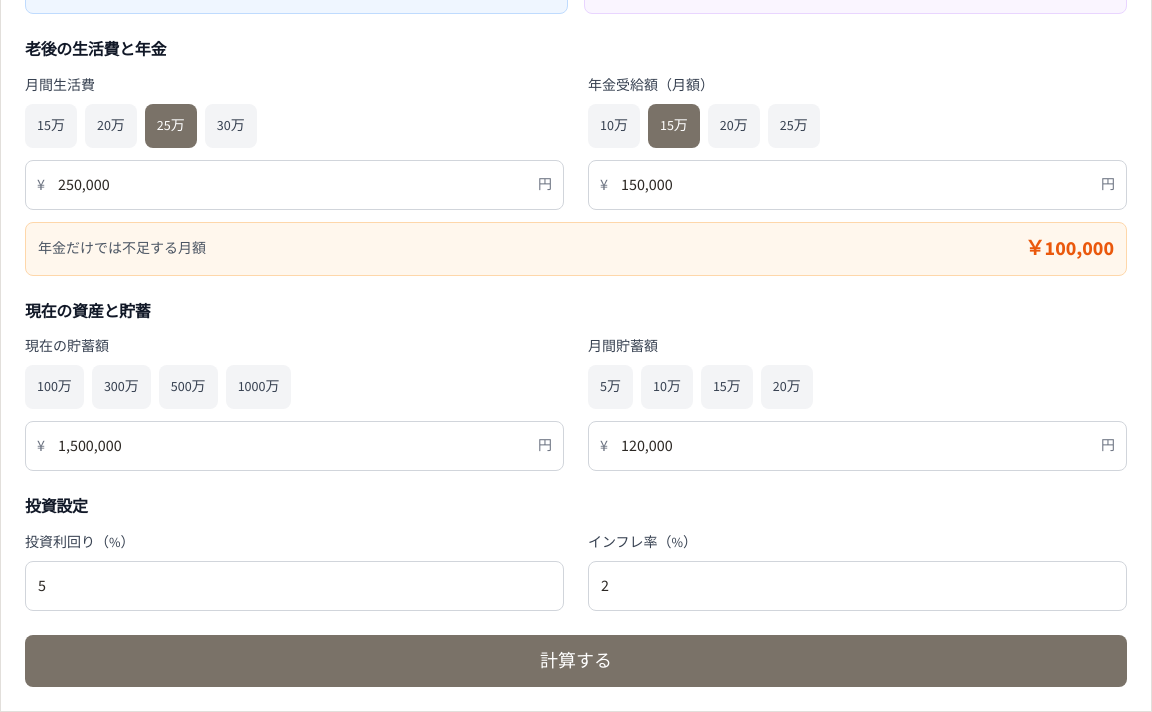
Test case: RetirementCalculator › エラーハンドリング › APIエラー時にエラーメッセージが表示される
The width and height of the screenshot is (1152, 712).
(page scrolled)
Click the button "計算する": (576,661) [25,635,1127,687]
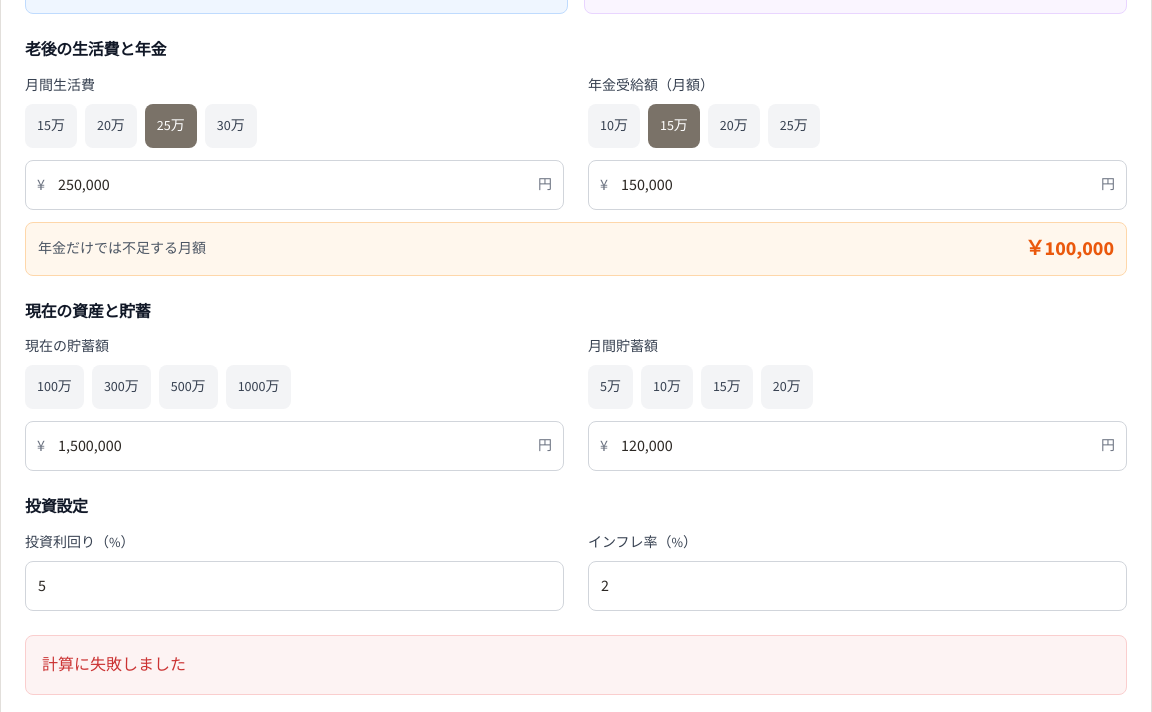
Check: the text "計算に失敗しました" is shown, box [42,654,186,675]
